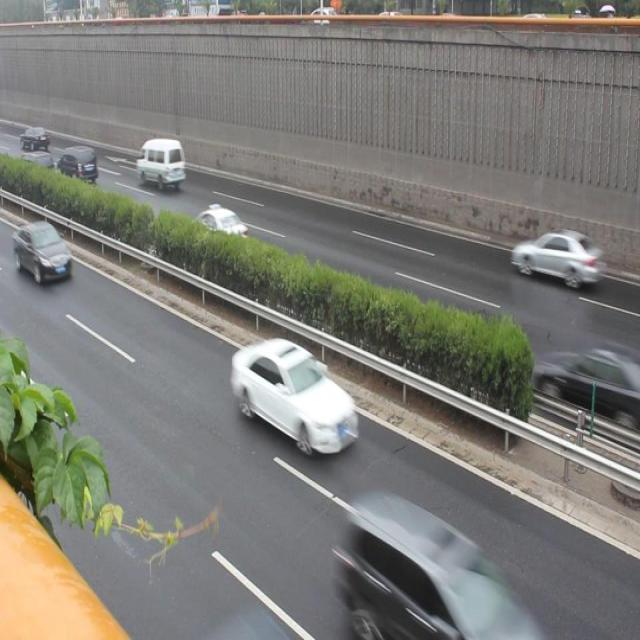car: (335, 493, 528, 640), (234, 335, 358, 459), (539, 336, 640, 441), (510, 224, 599, 296), (11, 219, 78, 284), (194, 193, 247, 256)
truck: (136, 135, 187, 189)
